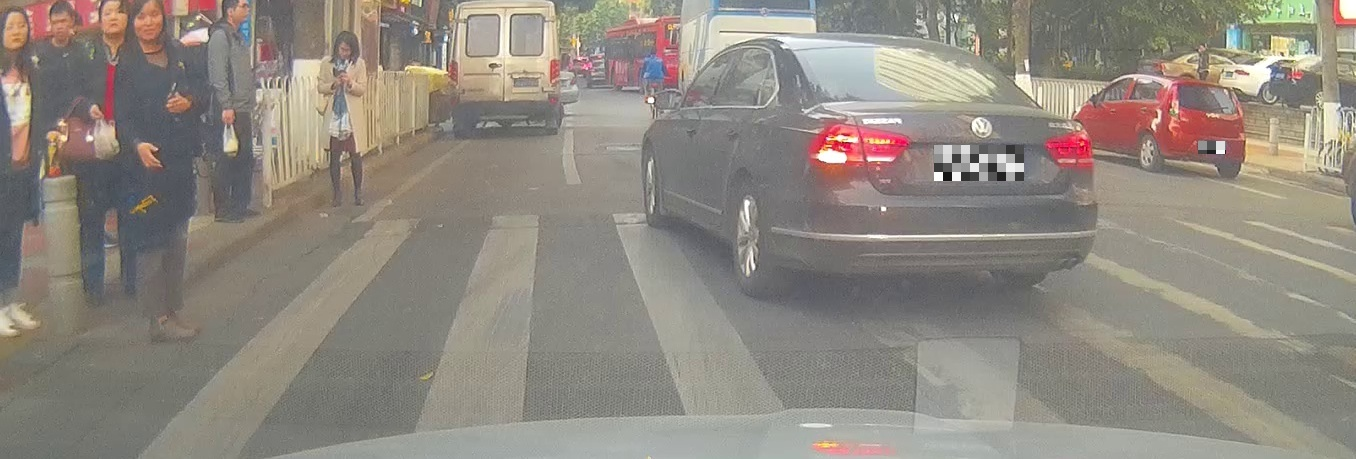L_light: (803, 121, 908, 172), (449, 58, 459, 85), (1167, 100, 1180, 120)
R_light: (1044, 130, 1096, 167), (550, 59, 559, 86), (1236, 105, 1245, 119)
T_light: (932, 93, 985, 105), (1204, 85, 1220, 90), (499, 6, 515, 9)
day-left: (804, 31, 1098, 293)
day-no: (445, 0, 561, 138), (1165, 78, 1247, 179)
plate_1: (934, 145, 1024, 181)
plate_2: (1198, 141, 1226, 154)
